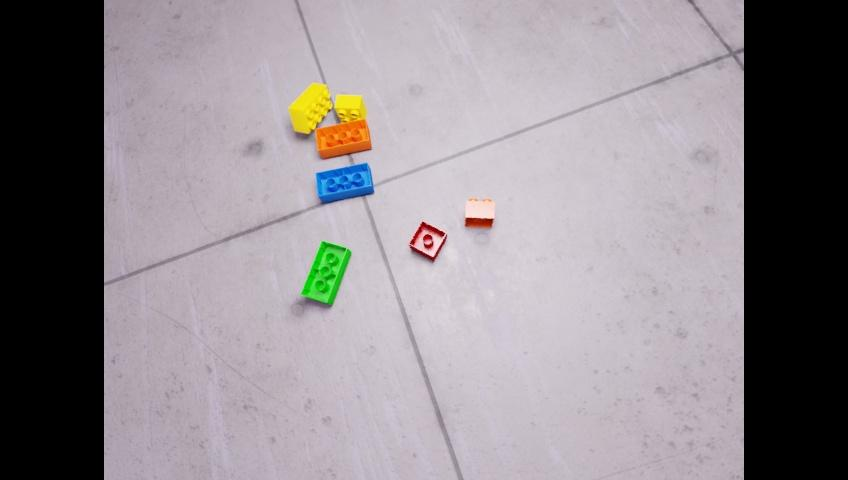2x2_orange: (464, 197, 493, 227)
2x2_red: (409, 221, 447, 261)
2x2_yellow: (334, 95, 366, 123)
4x2_blue: (315, 162, 373, 203)
4x2_green: (300, 240, 351, 304)
4x2_orange: (315, 118, 371, 158)
4x2_yellow: (288, 82, 331, 133)
